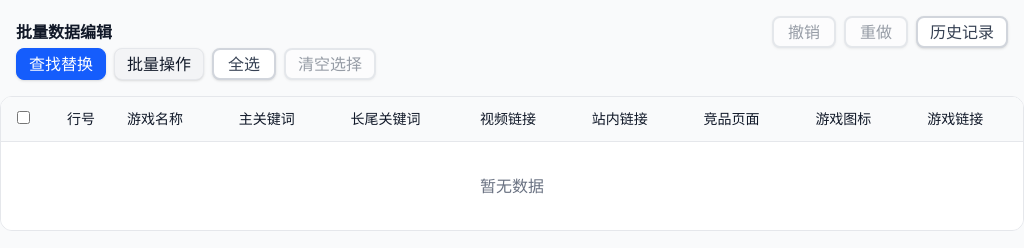
BatchDataEditor › 行选择功能 › 应该支持全选功能
Click the button "全选" at (244, 64), box [212,48,276,80]
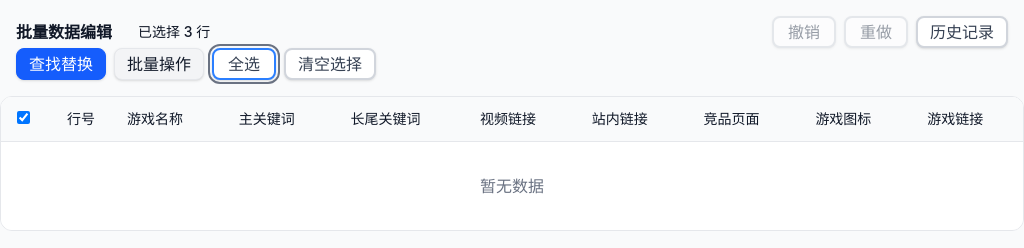
Expected: the text "已选择 3 行" is shown, [138,22,210,42]
